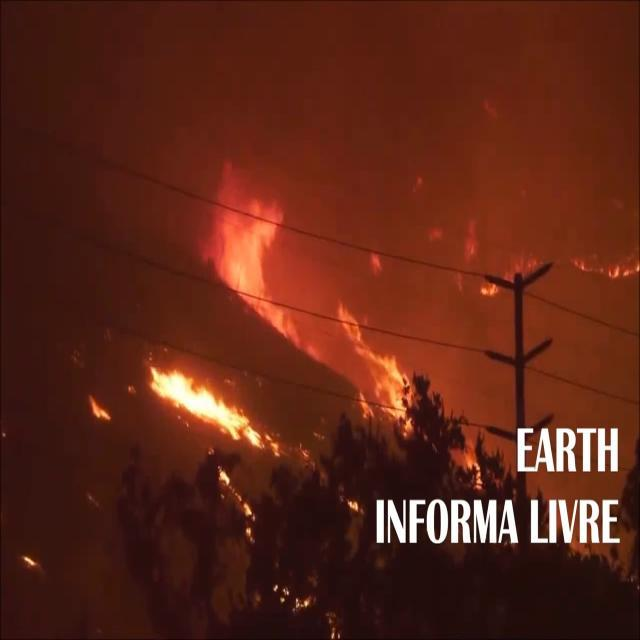Fire: (185, 131, 315, 360), (146, 360, 282, 468), (337, 298, 430, 441)
